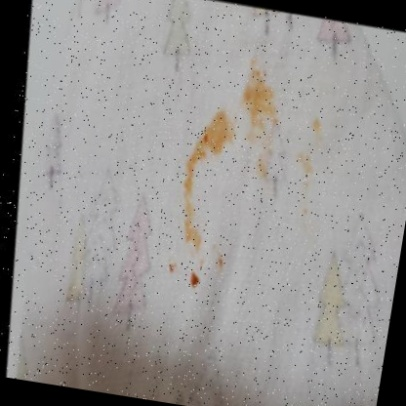kimchi: (154, 152, 218, 249), (232, 65, 291, 151), (186, 104, 234, 157), (288, 151, 323, 217), (183, 272, 209, 300), (251, 154, 273, 184), (161, 260, 181, 282), (213, 253, 229, 271), (311, 118, 322, 134)
